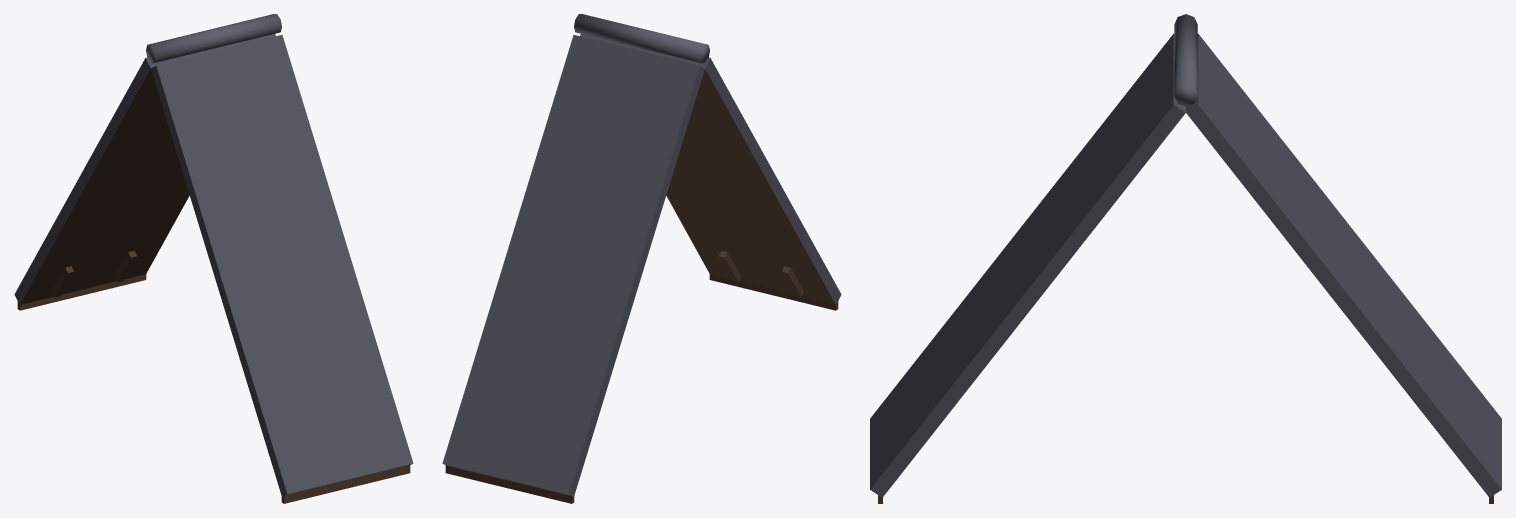
The model's file is kit_church_slate_w3.glb.
3 renders of one model, left to right at view 1: azimuth 30°, elevation 25°; view 2: azimuth 150°, elevation 25°; view 3: azimuth 270°, elevation 25°, orthographic. The views are drawn at different scales.
Visible parts, largest first — view 1: kit_church_slate_w3; view 2: kit_church_slate_w3; view 3: kit_church_slate_w3.
Part boxes in pixels (x1=…): kit_church_slate_w3: x1=14, y1=14, x2=413, y2=503; kit_church_slate_w3: x1=442, y1=14, x2=841, y2=503; kit_church_slate_w3: x1=870, y1=14, x2=1501, y2=503.
Size of the model in its own units: 1 by 2.74 by 3.75.
